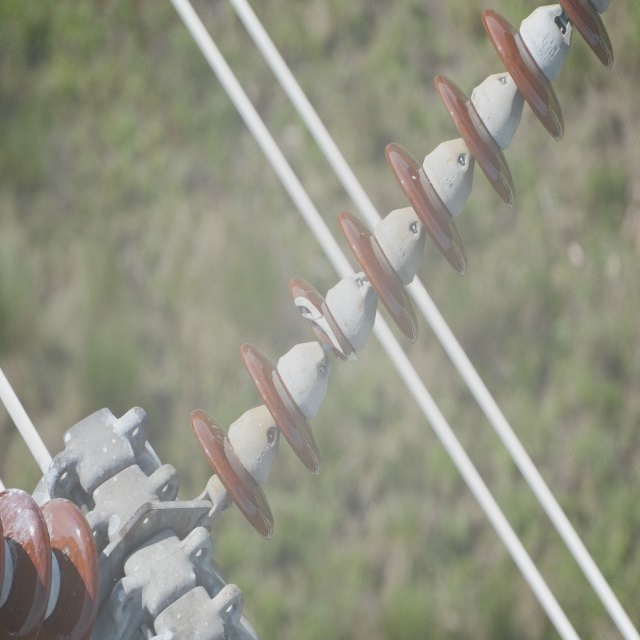broken: (288, 280, 361, 364)
insulator: (189, 0, 613, 539), (0, 486, 101, 634)
